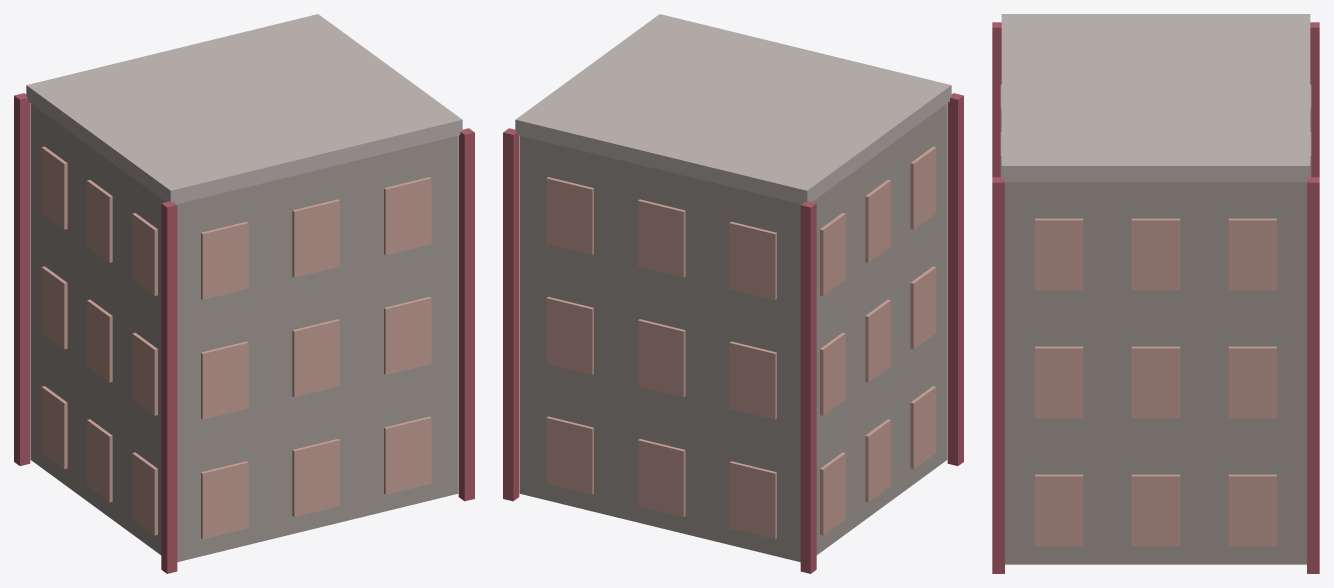
File: residential_a.glb
3 renders of one model, left to right at view 1: azimuth 30°, elevation 25°; view 2: azimuth 150°, elevation 25°; view 3: azimuth 270°, elevation 25°, orthographic. The views are drawn at different scales.
Bounding box in the file's own units: 7.53 × 8.84 × 6.49.
